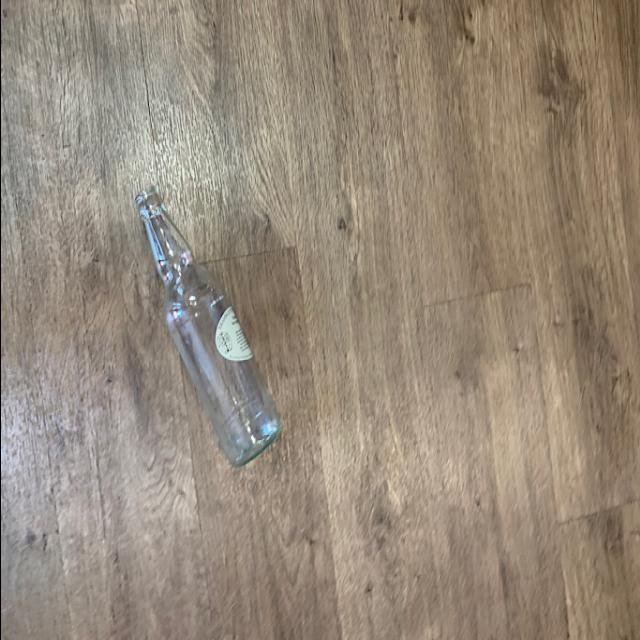Glass Bottle: (128, 184, 282, 472)
